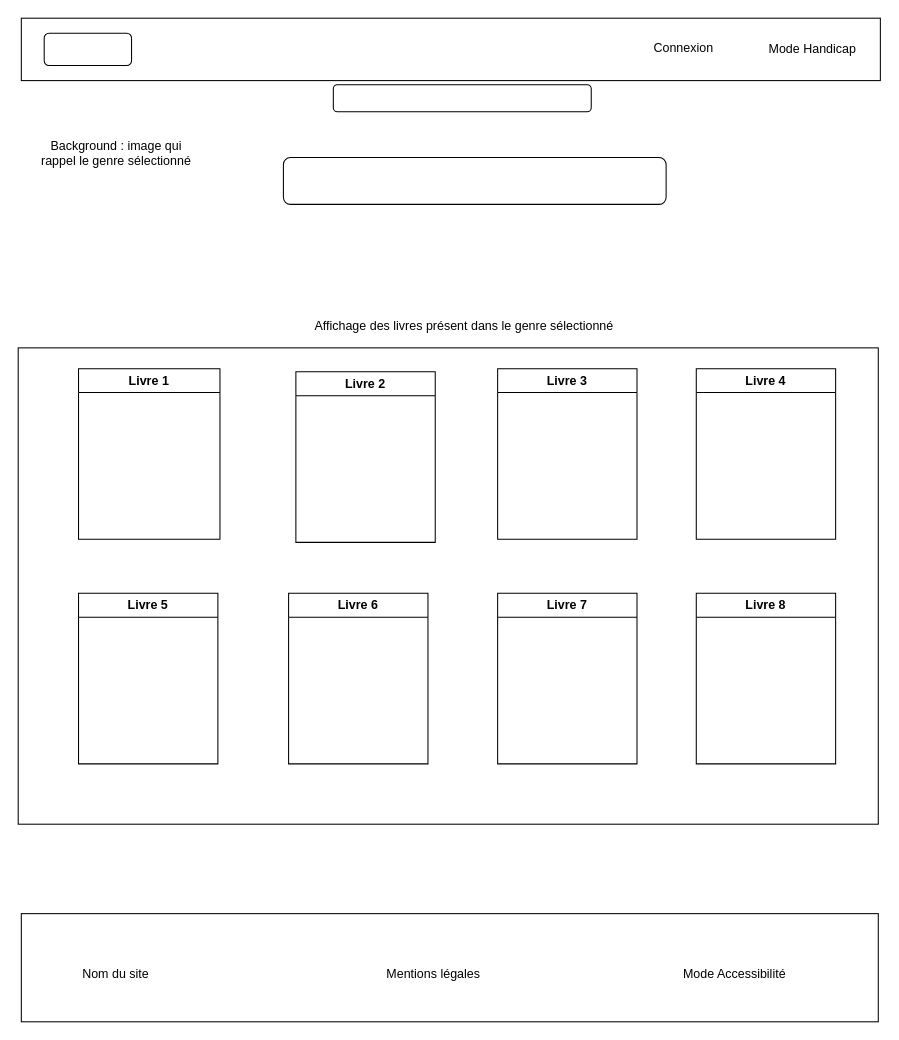
Some shapes in this 899 by 1040 pixel diagram are drawn without their labels. Here are the shapes that lost their labels. From the top down, the centre of each, then its label:
point (87, 49): Logo
point (461, 98): Moteur de recherche
point (474, 180): Titre du Genre
